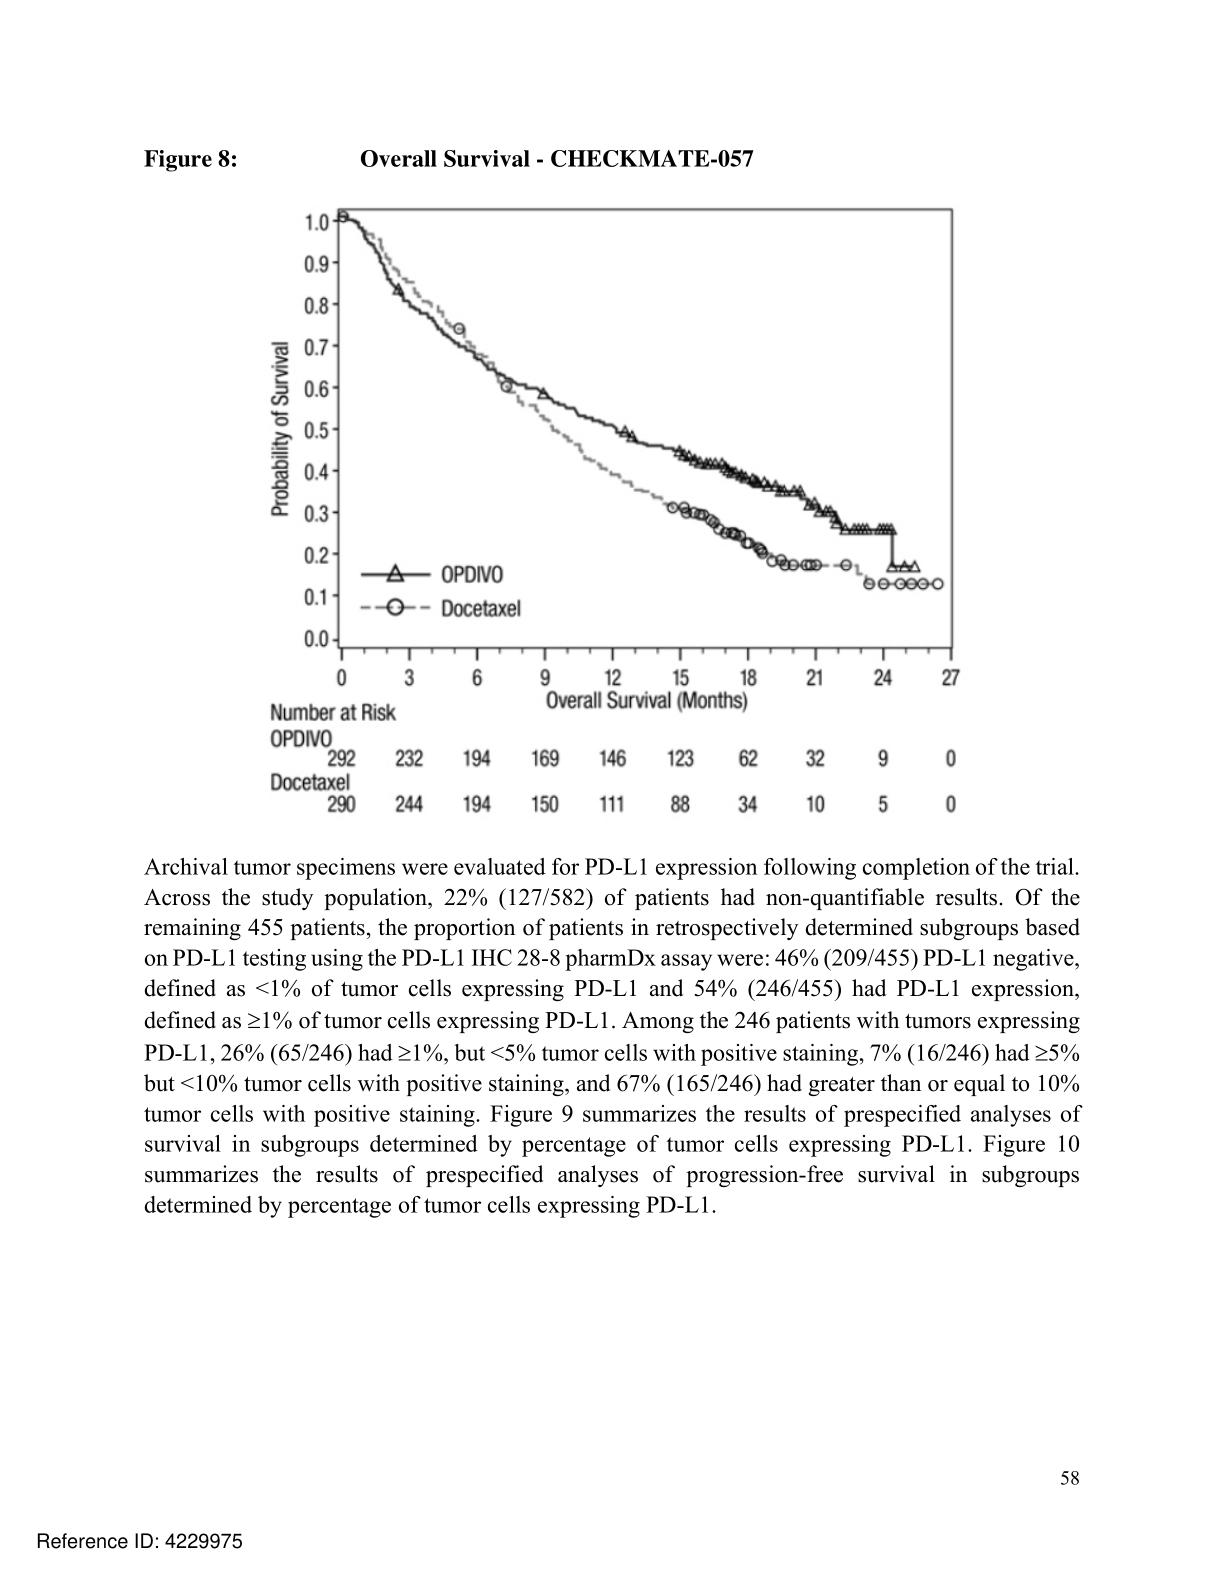nolines: (267, 726, 959, 813)
